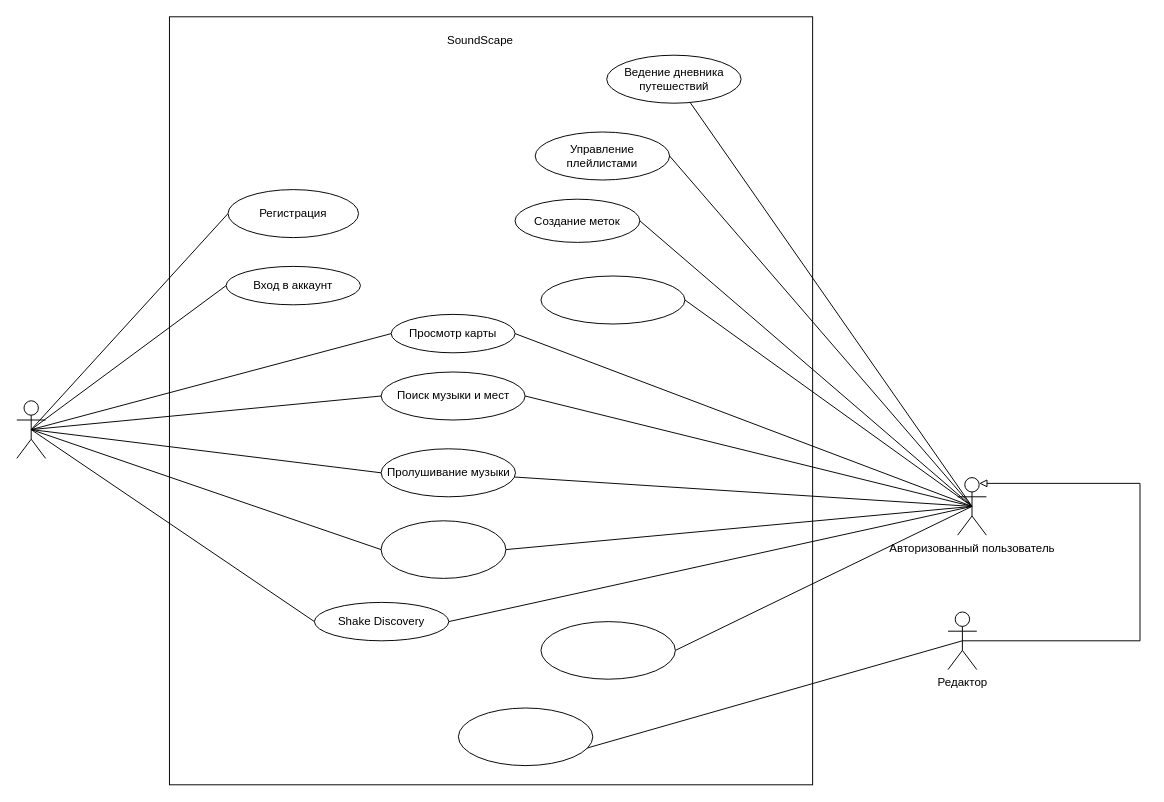
Some shapes in this 1164 by 802 pixel diagram are drawn without their labels. The centre of each missing label's shape, as x and y in pixels:
Генерация плейлистов через ИИ: point (612, 299)
Гость: point (31, 429)
Обмен музыкой/плейлистами: point (607, 650)
Поиск музыкальных мест поблизости: point (443, 549)
Управление редакционнаыми подборками: point (525, 736)
